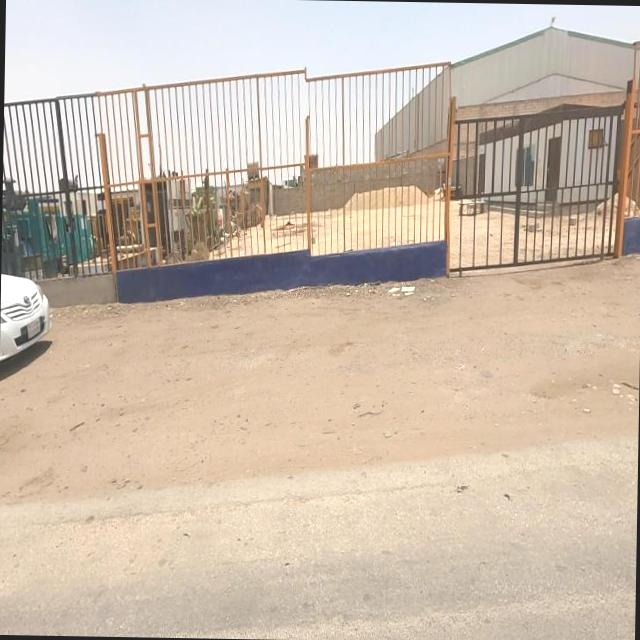debris: (360, 244, 448, 340)
